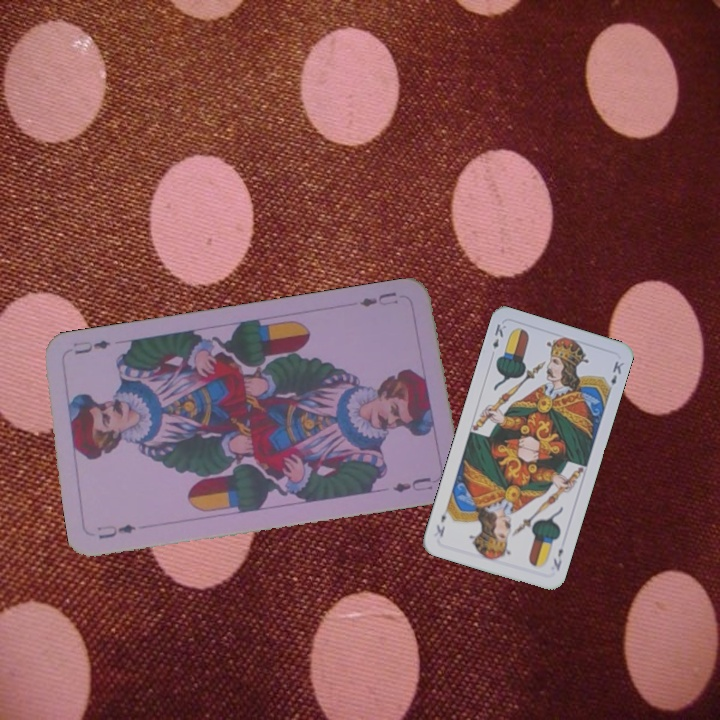EK: (487, 320, 508, 360), (549, 544, 566, 573)
EU: (93, 520, 139, 542), (356, 287, 400, 309)
